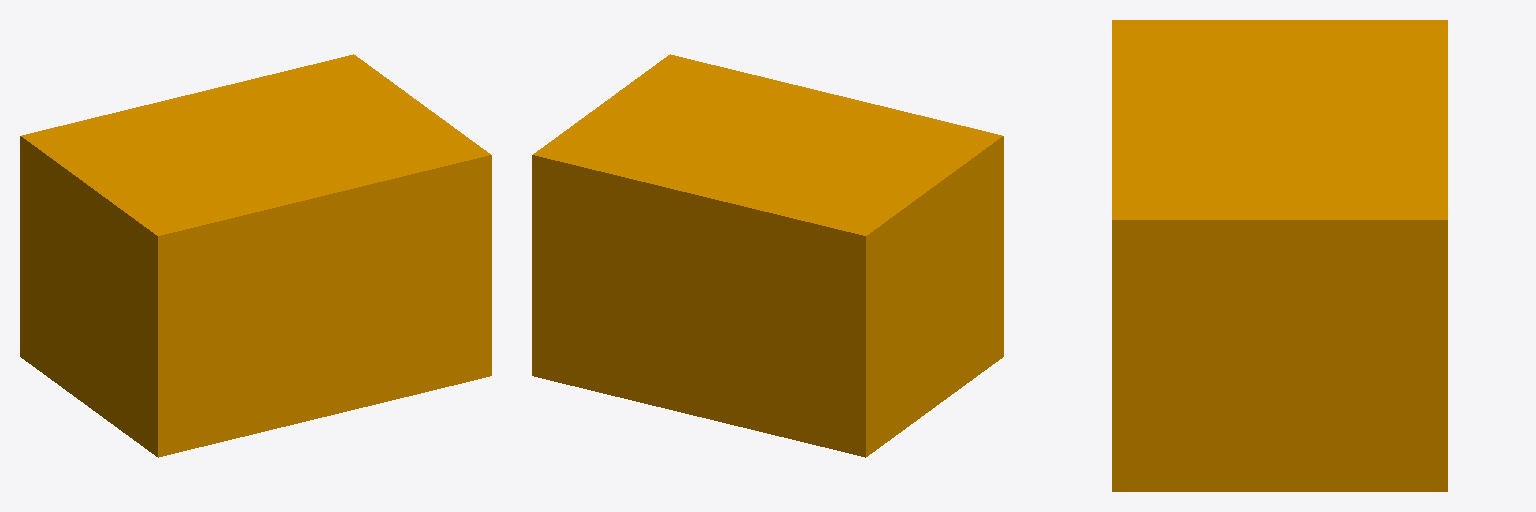
URDF robot description (object):
<?xml version="1.0"?>
<!-- Auto-generated by tools/gen_primitive_objects.py. kind=box dims=(0.089122, 0.063557, 0.056494) -->
<robot name="object">
  <link name="object">
    <visual>
      <origin xyz="0 0 0"/>
      <geometry>
        <box size="0.089122 0.063557 0.056494"/>
      </geometry>
    </visual>
    <collision>
      <origin xyz="0 0 0"/>
      <geometry>
        <box size="0.089122 0.063557 0.056494"/>
      </geometry>
    </collision>
    <inertial>
      <mass value="0.064000"/>
      <inertia ixx="0.00003857" ixy="0.0" ixz="0.0" iyy="0.00005938" iyz="0.0" izz="0.00006391"/>
    </inertial>
  </link>
</robot>

--- Render facts (derived) ---
3 views of the same robot in one strip: view 1: azimuth 30°, elevation 25°; view 2: azimuth 150°, elevation 25°; view 3: azimuth 270°, elevation 25° (orthographic).
Model object with 1 links and 0 joints (none), rooted at object, posed all joints at 0.
Visible links, largest first — view 1: object; view 2: object; view 3: object.
Boxes of the visible links, x1,y1,x2,y2 form: object: [20, 54, 491, 457]; object: [532, 54, 1003, 457]; object: [1112, 20, 1447, 491].
Bounding box of the posed robot: 0.0891 × 0.0636 × 0.0565 m (x, y, z).
Geometry: primitives only (box / cylinder / sphere), no mesh files.
